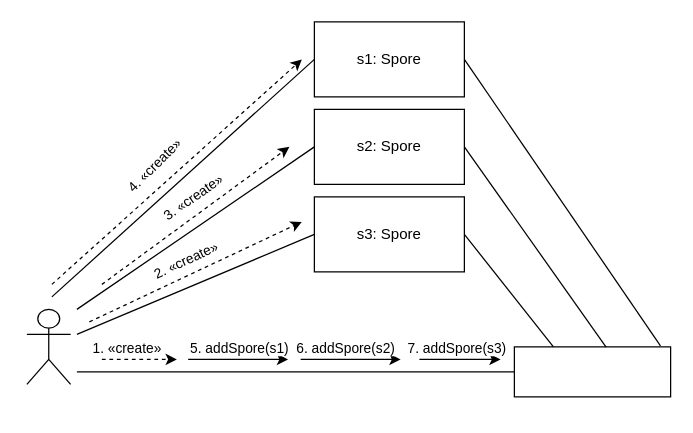
The diagram is 693 pixels wide and 433 high, and some of its shapes have lost their labels. The shapes that lost their labels are listed below. From the top down, each one's centre as x and y in pixels, then its label:
(x=48, y=346): Tesztelő
(x=592, y=371): T: Tecton
